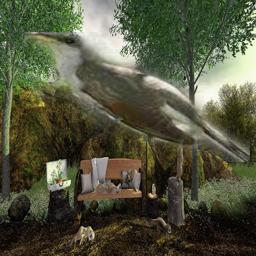Cuckoo: (24, 32, 250, 162)
